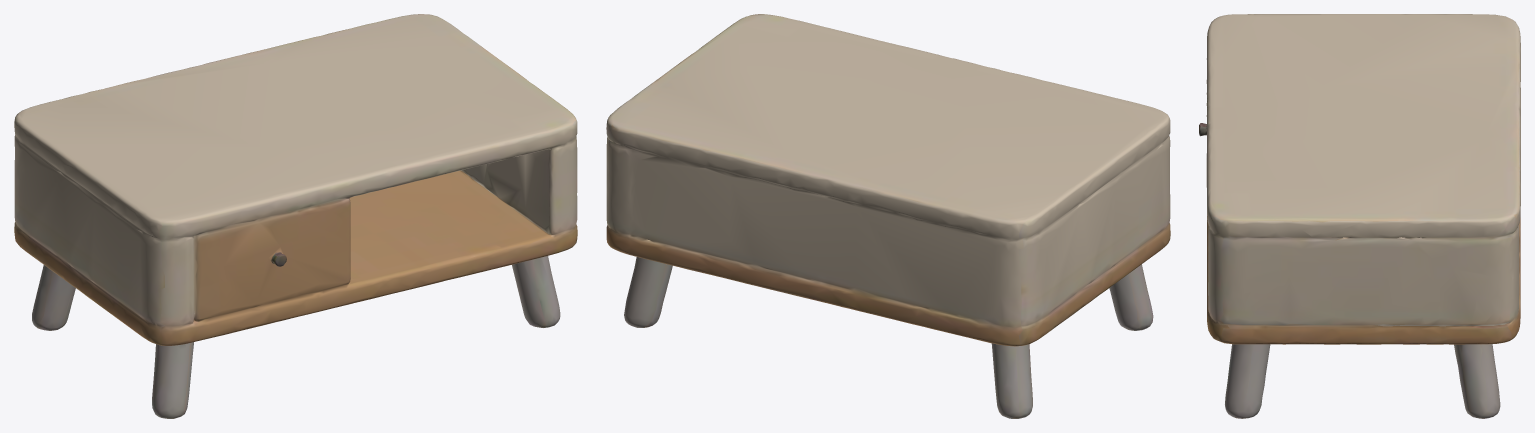
File: coffee_table.glb
3 views of the same model, side by side, from view 1: azimuth 30°, elevation 25°; view 2: azimuth 150°, elevation 25°; view 3: azimuth 270°, elevation 25° (orthographic).
Parts seen in each view (by area): view 1: geometry_0; view 2: geometry_0; view 3: geometry_0.
Part boxes in pixels (x1,y1,x2,y2): geometry_0: [14, 14, 577, 418]; geometry_0: [606, 14, 1170, 418]; geometry_0: [1199, 14, 1520, 418].
Size of the model in its own units: 1 by 0.4653 by 0.6554.
1 material, 1 textured.
